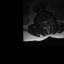CCS_normal: (44, 19, 46, 26)
LFS_stenosis: (47, 18, 49, 22)
LLS_normal: (46, 19, 48, 23)
RFS_stenosis: (41, 20, 43, 24)
RLS_normal: (43, 19, 44, 24)
